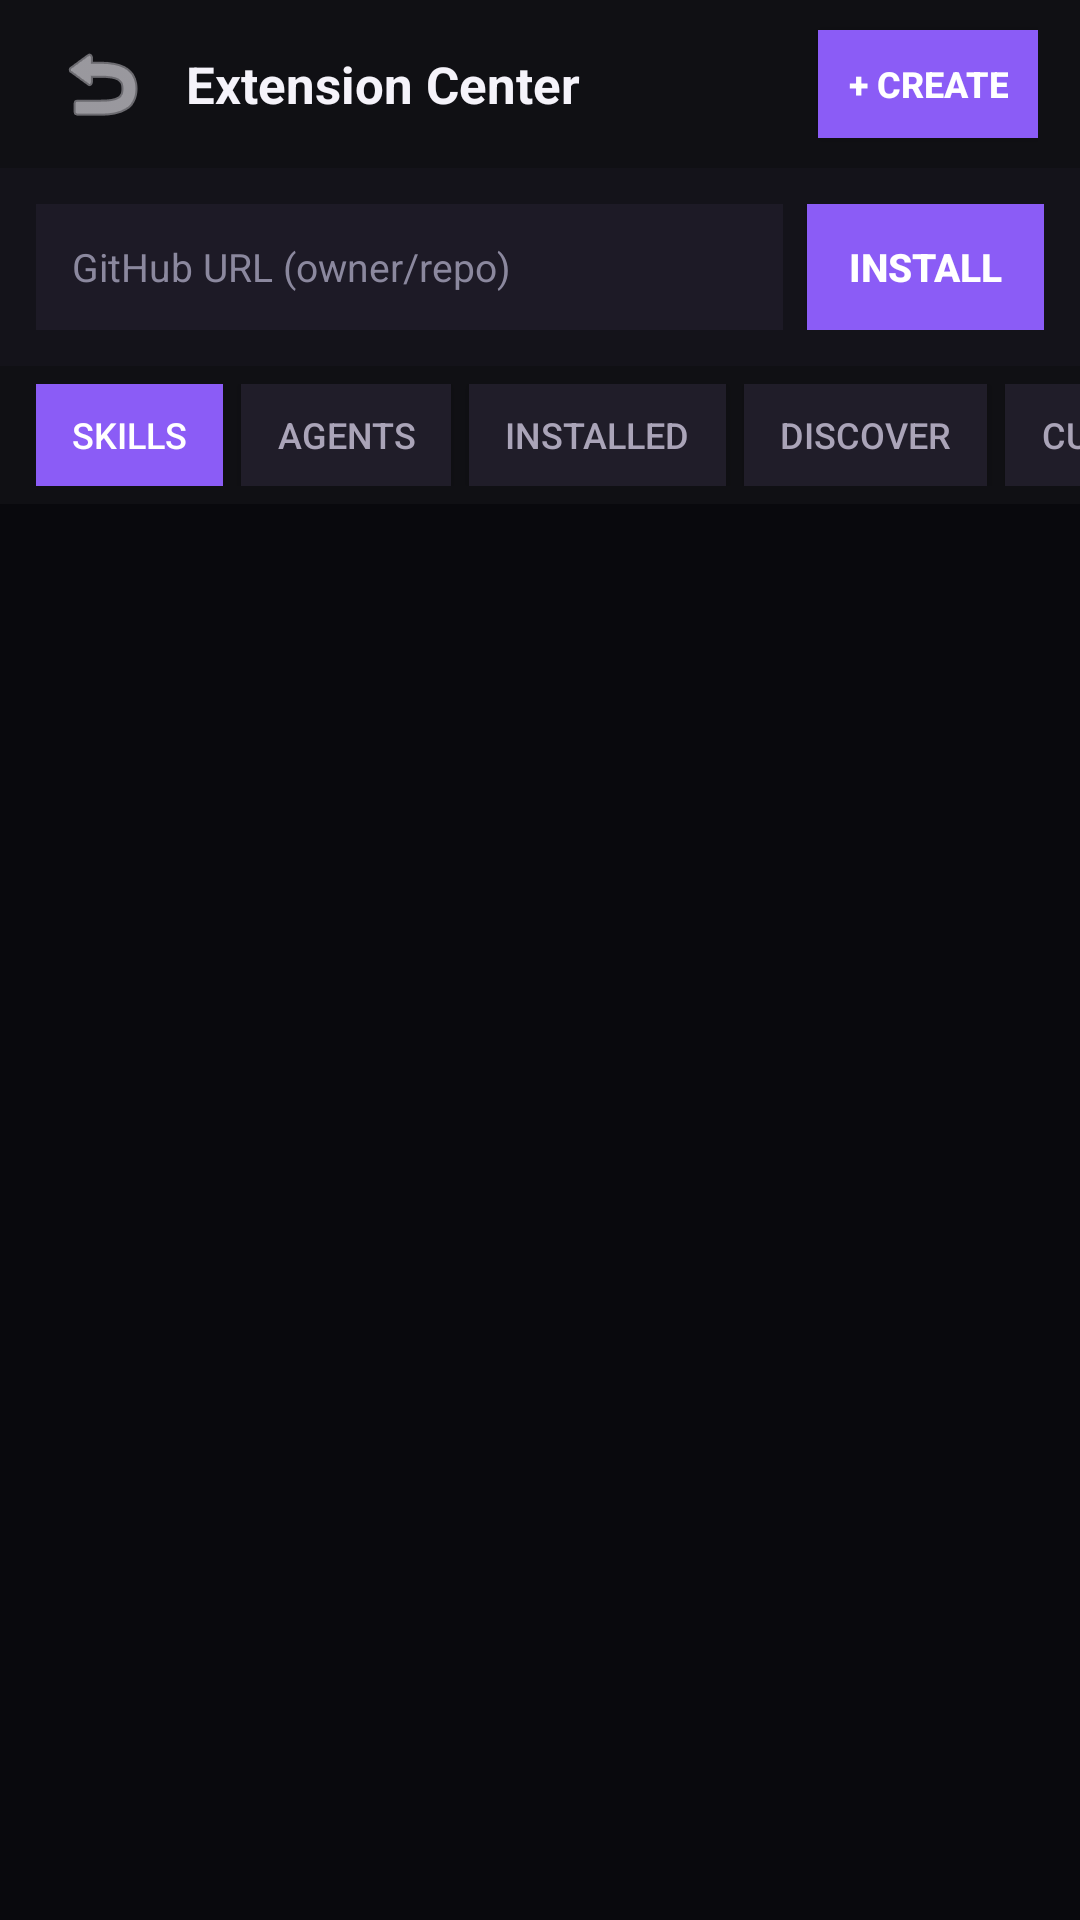

Named icons in this screenshot (1080*1920) and their bounding boxes, (x1, y1, x2, y2):
Back: (69, 53, 138, 116)
